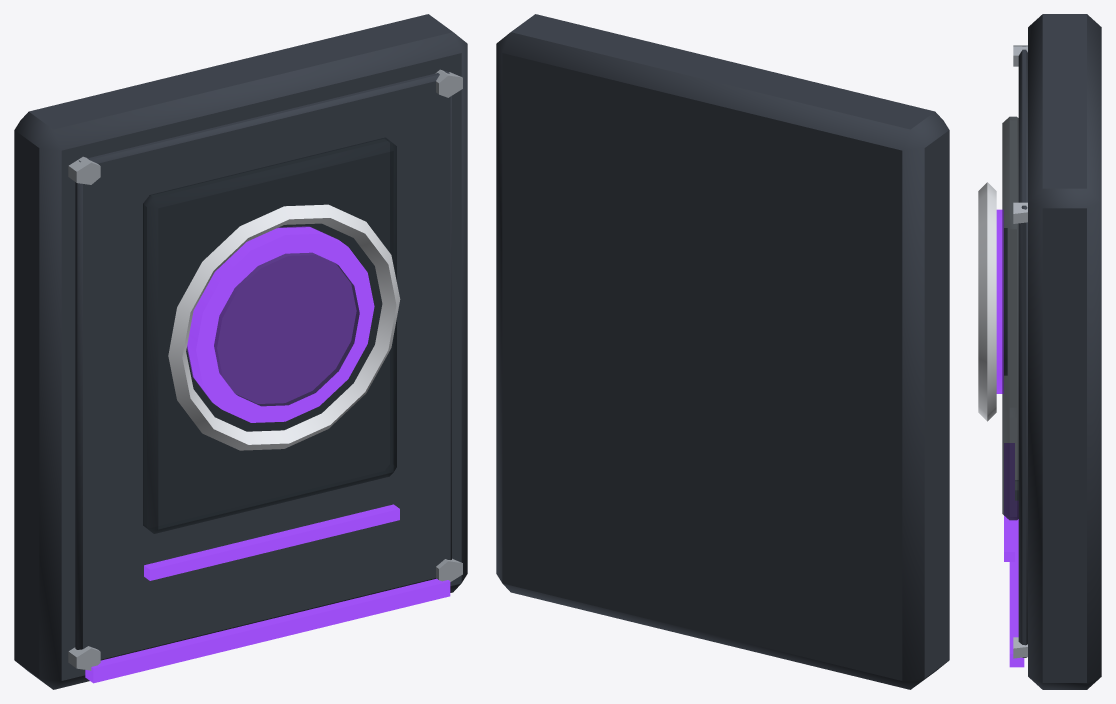
The model's file is controlpanel_biometric_scanner.glb.
3 renders of one model, left to right at view 1: azimuth 30°, elevation 25°; view 2: azimuth 150°, elevation 25°; view 3: azimuth 270°, elevation 25°, orthographic. The views are drawn at different scales.
Visible parts, largest first — view 1: controlpanel_biometric_scanner; view 2: controlpanel_biometric_scanner; view 3: controlpanel_biometric_scanner.
Part boxes in pixels (x1,y1,x2,y2): controlpanel_biometric_scanner: (14, 14, 467, 689); controlpanel_biometric_scanner: (496, 14, 949, 689); controlpanel_biometric_scanner: (978, 14, 1101, 689).
Size of the model in its own units: 0.24 by 0.3 by 0.067.
